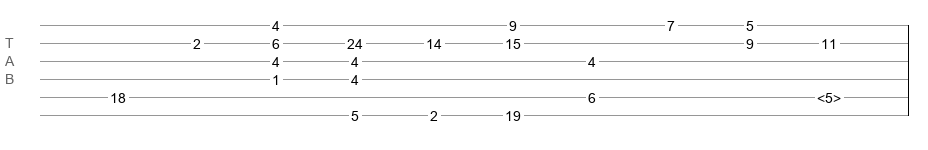1: (272, 72, 280, 82)
11: (821, 36, 837, 46)
14: (426, 36, 442, 46)
15: (505, 36, 521, 46)
18: (110, 90, 126, 100)
19: (505, 108, 521, 118)
2: (193, 36, 201, 46), (430, 108, 438, 118)
24: (347, 36, 363, 46)
4: (272, 18, 280, 28), (272, 54, 280, 64), (351, 54, 359, 64), (351, 72, 359, 82), (588, 54, 596, 64)
5: (351, 108, 359, 118), (746, 18, 754, 28)
6: (272, 36, 280, 46), (588, 90, 596, 100)
7: (667, 18, 675, 28)
9: (509, 18, 517, 28), (746, 36, 754, 46)
harmonic: (817, 90, 841, 100)
